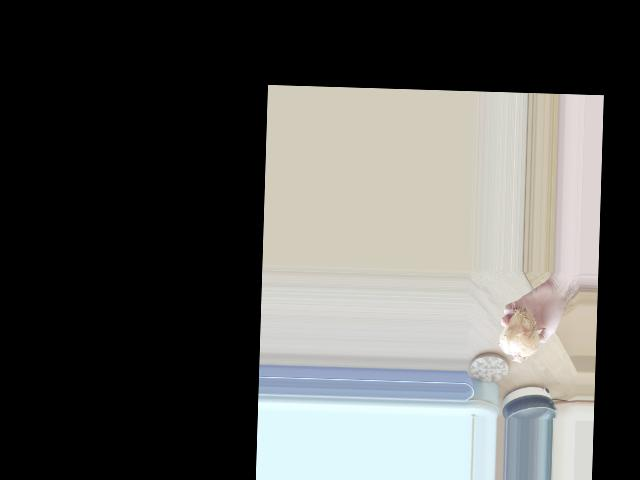onion: (497, 304, 540, 361)
